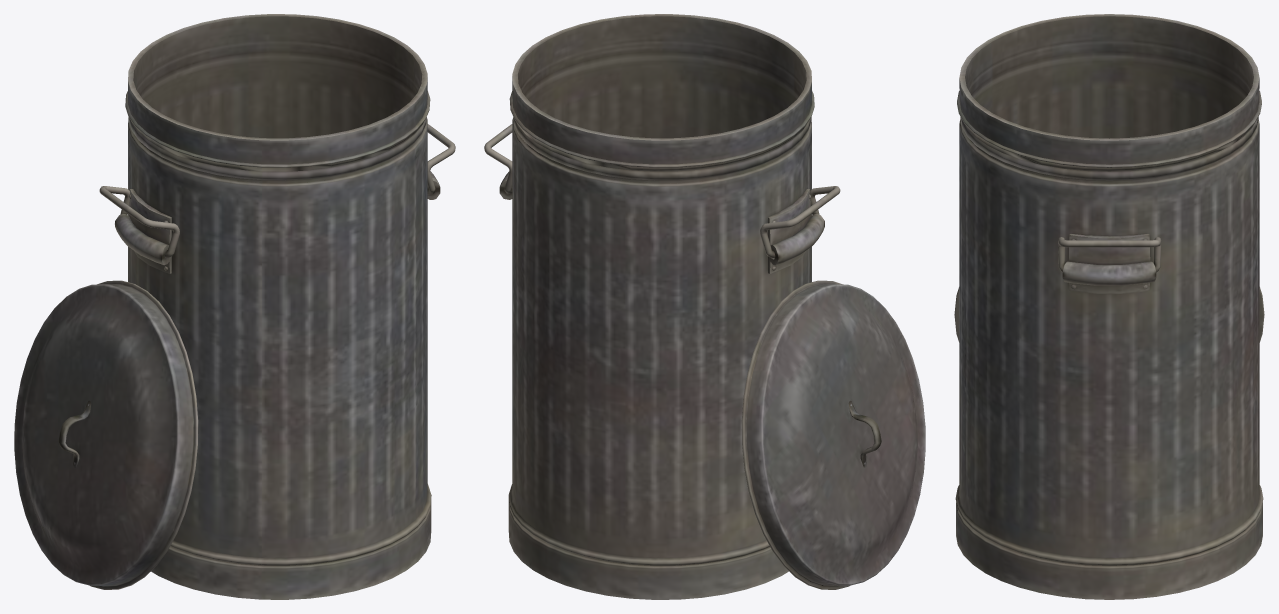
The model's file is trash_can.glb.
The picture shows the model from 3 angles, left to right: view 1: azimuth 30°, elevation 25°; view 2: azimuth 150°, elevation 25°; view 3: azimuth 270°, elevation 25°; orthographic projection.
Parts seen in each view (by area): view 1: metal_trash_can, metal_trash_can_lid, metal_trash_can_handle_left, metal_trash_can_handle_right; view 2: metal_trash_can, metal_trash_can_lid, metal_trash_can_handle_left, metal_trash_can_handle_right; view 3: metal_trash_can, metal_trash_can_handle_right, metal_trash_can_lid.
Boxes of the visible parts, x1,y1,x2,y2 form: metal_trash_can: [115, 14, 440, 599]; metal_trash_can_lid: [14, 280, 198, 589]; metal_trash_can_handle_left: [99, 186, 179, 257]; metal_trash_can_handle_right: [427, 124, 455, 193]; metal_trash_can: [499, 14, 824, 599]; metal_trash_can_lid: [741, 280, 925, 589]; metal_trash_can_handle_left: [760, 186, 840, 258]; metal_trash_can_handle_right: [484, 124, 512, 193]; metal_trash_can: [955, 14, 1263, 599]; metal_trash_can_handle_right: [1058, 237, 1161, 272]; metal_trash_can_lid: [954, 287, 1264, 342].
Size of the model in its own units: 0.778 by 0.9062 by 0.5563.
1 material, 1 textured.
